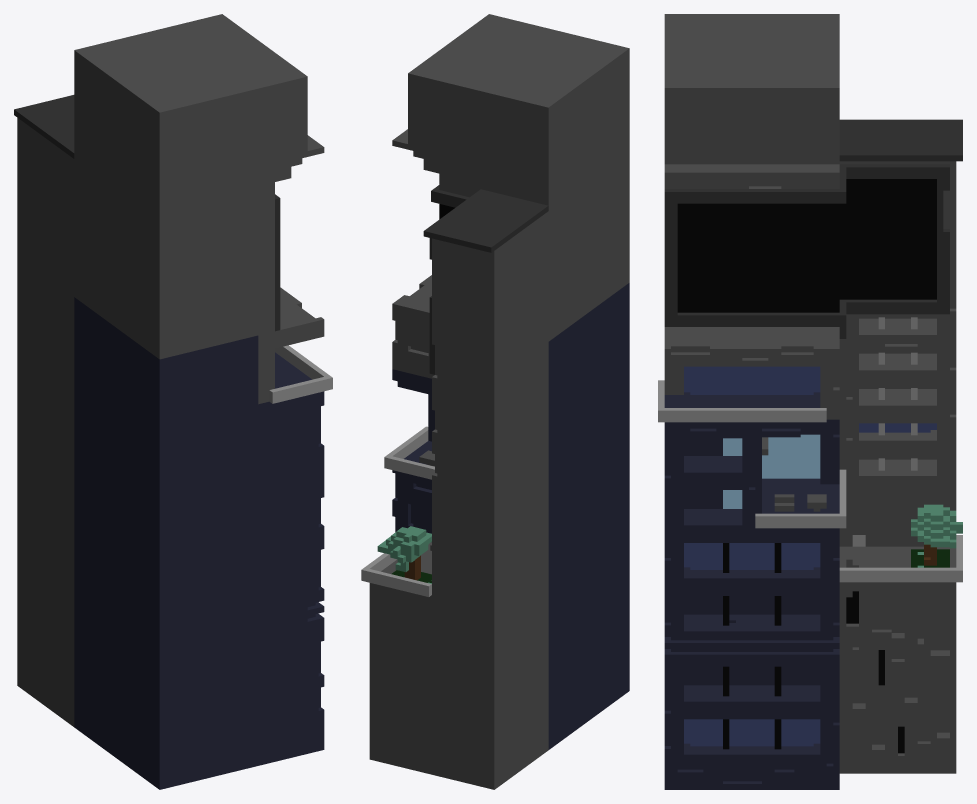
Rendered from Building3.obj.
3 renders of one model, left to right at view 1: azimuth 30°, elevation 25°; view 2: azimuth 150°, elevation 25°; view 3: azimuth 270°, elevation 25°, orthographic. The views are drawn at different scales.
Bounding box in the file's own units: 3.1 × 11.8 × 4.7.
Materials: 1 (1 with a texture image).
